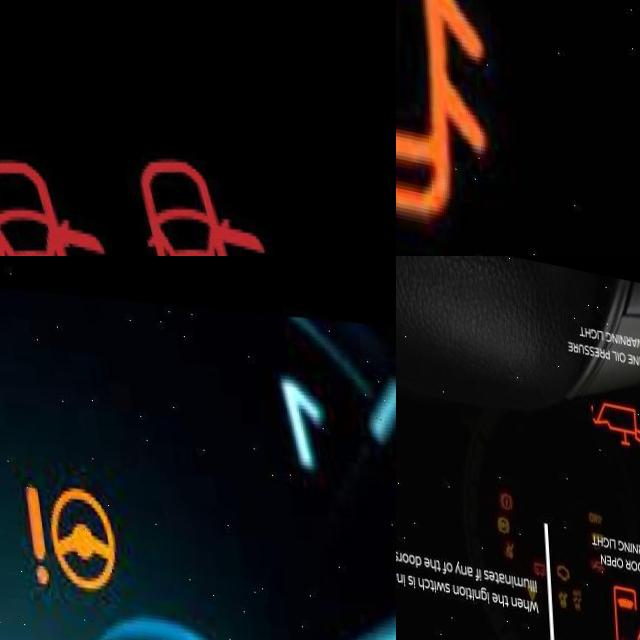Electronic Power Steering Warning: (17, 470, 122, 602)
